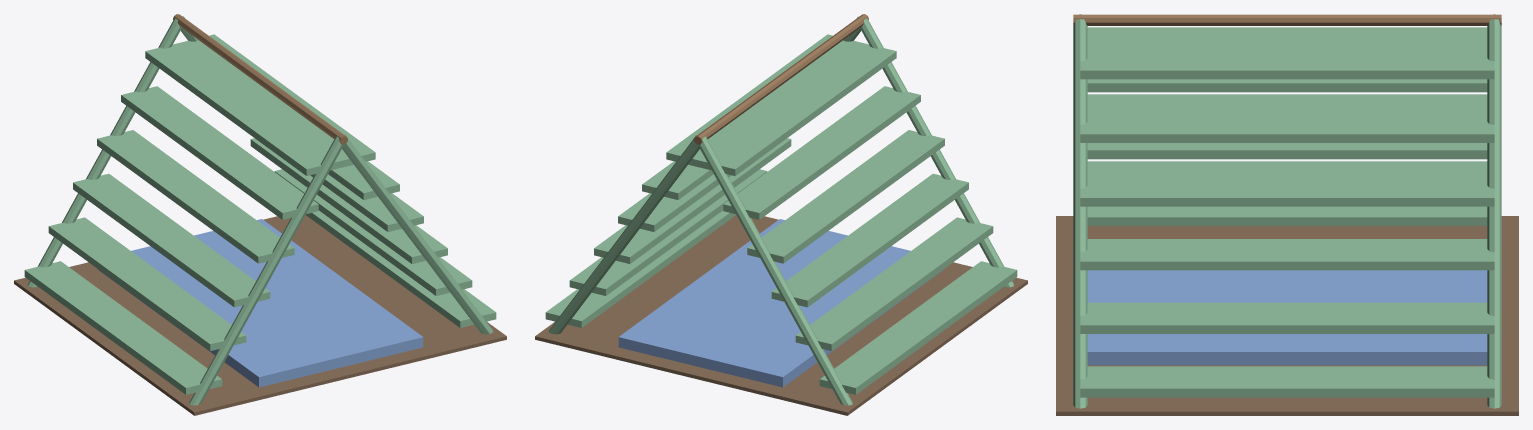
File: tent.glb
3 views of the same model, side by side, from view 1: azimuth 30°, elevation 25°; view 2: azimuth 150°, elevation 25°; view 3: azimuth 270°, elevation 25° (orthographic). The views are drawn at different scales.
Visible parts, largest first — view 1: tent; view 2: tent; view 3: tent.
Part boxes in pixels (left/top/right/bottom): tent: left=14, top=14, right=506, bottom=415; tent: left=535, top=14, right=1027, bottom=415; tent: left=1056, top=14, right=1518, bottom=415.
Bounding box in the file's own units: 1.9 × 1.39 × 1.9.
